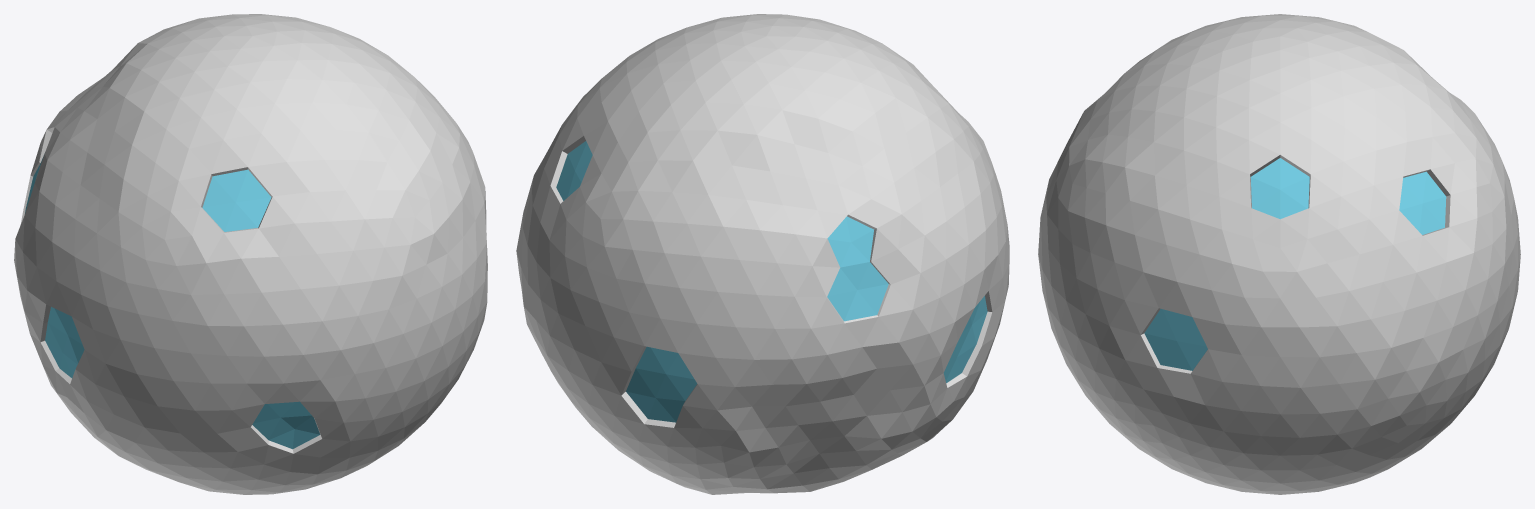
File: Planet9.glb
The picture shows the model from 3 angles, left to right: view 1: azimuth 30°, elevation 25°; view 2: azimuth 150°, elevation 25°; view 3: azimuth 270°, elevation 25°; orthographic projection.
Parts seen in each view (by area): view 1: Planet9; view 2: Planet9; view 3: Planet9.
Boxes of the visible parts, <box> form: Planet9: <box>14,14,487,494</box>; Planet9: <box>516,14,1009,494</box>; Planet9: <box>1038,14,1520,494</box>.
Bounding box in the file's own units: 10.31 × 10.32 × 10.35.
